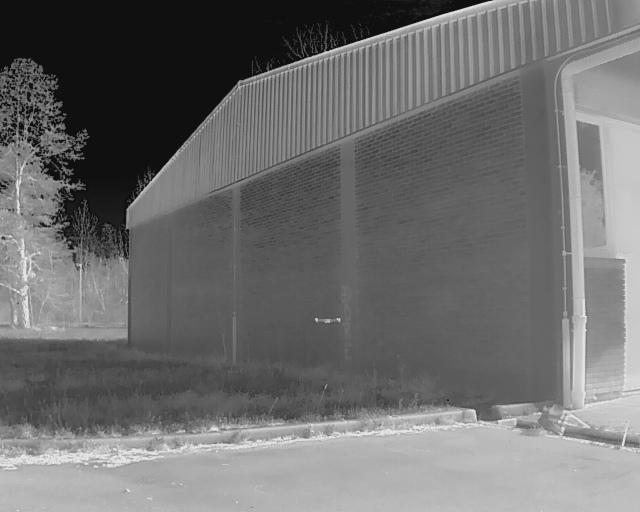drone: (303, 310, 343, 334)
